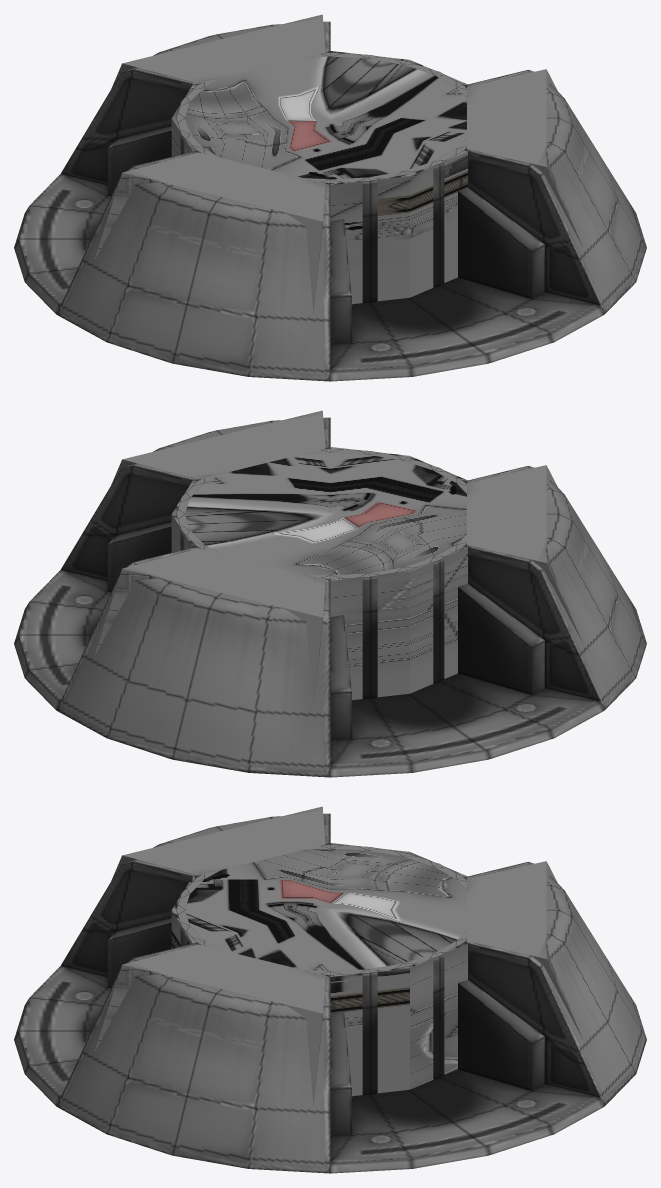
File: Apollo_Block2_ParachuteMount.dae
The picture shows the model from 3 angles, top to bottom: view 1: azimuth 30°, elevation 25°; view 2: azimuth 150°, elevation 25°; view 3: azimuth 270°, elevation 25°; orthographic projection.
Visible parts, largest first — view 1: polySurface159, pCylinder67, pCube39_ncl1_1, pCube39_ncl1_2, pCube39; view 2: polySurface159, pCylinder67, pCube39, pCube39_ncl1_1, pCube39_ncl1_2; view 3: polySurface159, pCylinder67, pCube39_ncl1_2, pCube39, pCube39_ncl1_1.
Boxes of the visible parts, left/top/right/bottom form: polySurface159: left=14, top=21, right=646, bottom=381; pCylinder67: left=171, top=51, right=467, bottom=304; pCube39_ncl1_1: left=94, top=152, right=325, bottom=314; pCube39_ncl1_2: left=467, top=69, right=583, bottom=247; pCube39: left=111, top=14, right=325, bottom=88; polySurface159: left=14, top=417, right=646, bottom=777; pCylinder67: left=171, top=447, right=467, bottom=700; pCube39: left=94, top=548, right=325, bottom=710; pCube39_ncl1_1: left=467, top=465, right=583, bottom=643; pCube39_ncl1_2: left=111, top=410, right=325, bottom=484; polySurface159: left=14, top=813, right=646, bottom=1173; pCylinder67: left=171, top=843, right=467, bottom=1096; pCube39_ncl1_2: left=94, top=944, right=325, bottom=1106; pCube39: left=467, top=861, right=583, bottom=1039; pCube39_ncl1_1: left=111, top=806, right=325, bottom=880.
Size of the model in its own units: 1.25 by 0.2817 by 1.25.
